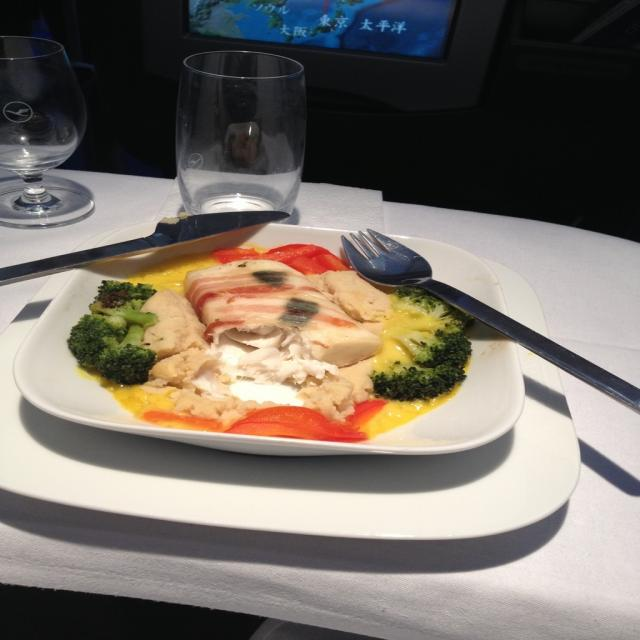non-organic waste: (3, 198, 555, 472)
